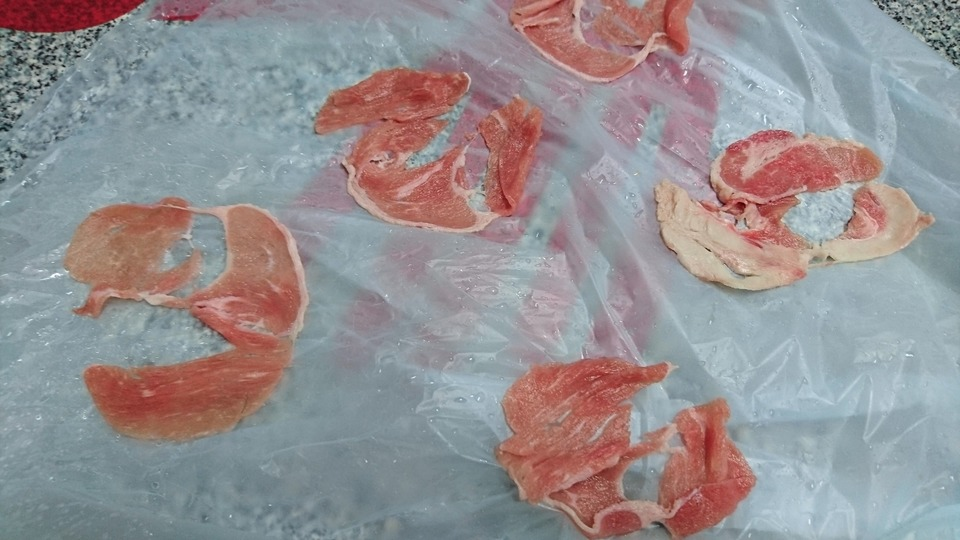restructured meat: (69, 187, 288, 446), (503, 365, 778, 532), (667, 126, 927, 296), (326, 83, 576, 252), (508, 4, 713, 79)
